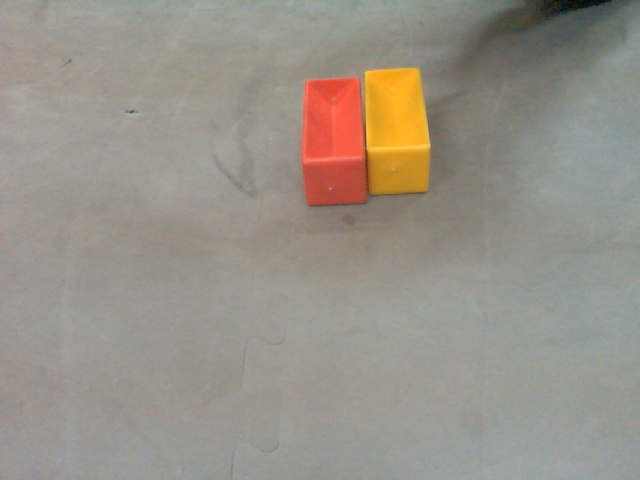RedSample: (302, 76, 368, 208)
YellowSample: (364, 71, 432, 195)
